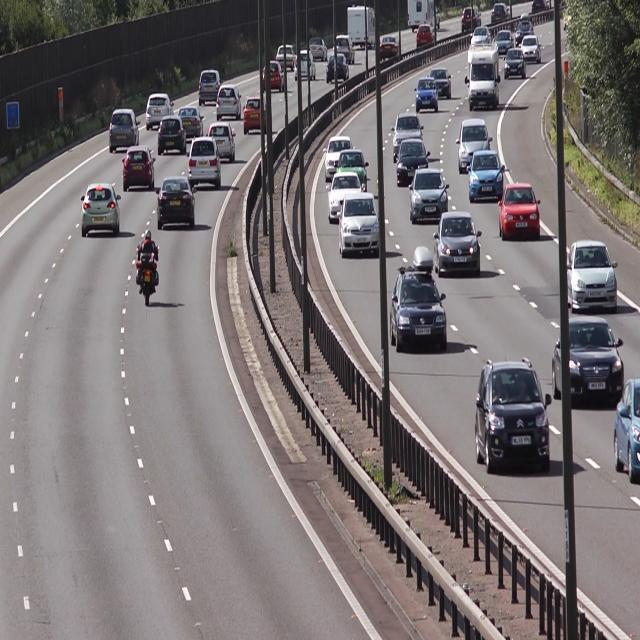Car: (476, 358, 551, 474), (554, 317, 624, 406), (392, 245, 447, 352), (566, 237, 619, 312), (435, 210, 482, 278), (339, 194, 383, 262), (499, 178, 542, 246), (78, 180, 124, 237), (466, 149, 507, 206), (468, 42, 501, 112), (411, 167, 450, 226), (457, 116, 493, 176), (158, 178, 196, 234), (325, 172, 364, 222), (123, 143, 158, 196), (396, 139, 430, 189), (190, 136, 222, 188), (110, 109, 143, 153), (392, 114, 425, 155), (207, 119, 237, 164), (156, 115, 187, 158), (214, 84, 244, 125), (244, 94, 269, 136), (147, 92, 175, 129), (179, 103, 205, 139), (198, 67, 219, 111), (429, 65, 454, 101), (415, 75, 438, 113), (502, 47, 526, 82)
